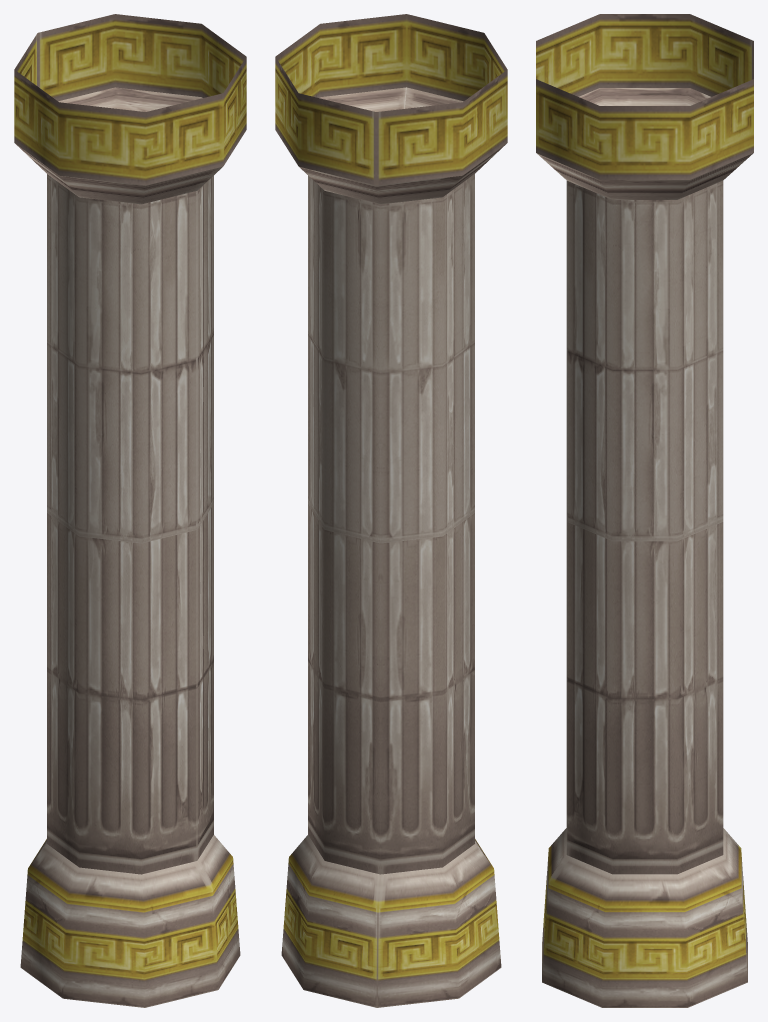
The model's file is zhuzhi.FBX.
3 renders of one model, left to right at view 1: azimuth 30°, elevation 25°; view 2: azimuth 150°, elevation 25°; view 3: azimuth 270°, elevation 25°, orthographic.
Visible parts, largest first — view 1: Stone_one_001; view 2: Stone_one_001; view 3: Stone_one_001.
Part boxes in pixels (left/top/right/bottom): Stone_one_001: left=14, top=14, right=246, bottom=1007; Stone_one_001: left=275, top=14, right=507, bottom=1007; Stone_one_001: left=536, top=14, right=753, bottom=1007.
Size of the model in its own units: 1.38 by 6.33 by 1.38.
Materials: 1 (1 with a texture image).
